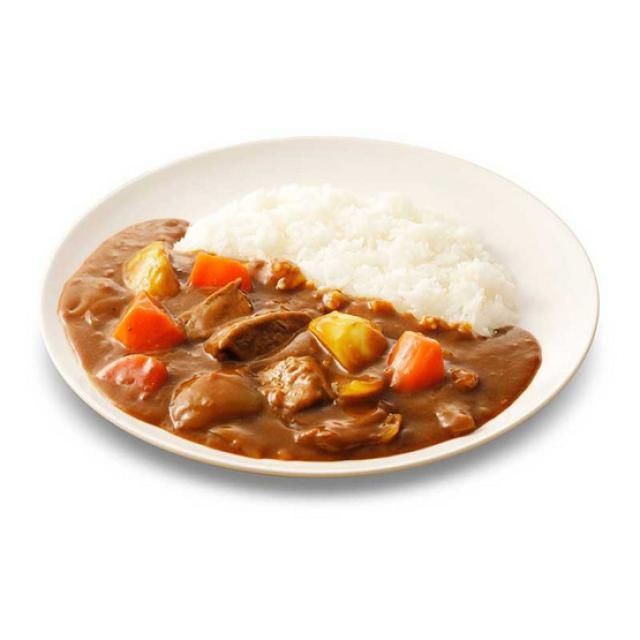Carbohydrate: (182, 176, 530, 345)
Curry: (37, 131, 608, 491)
Protein: (185, 279, 328, 413)
Taokua: (174, 242, 272, 289)
Vegetable: (308, 293, 447, 395), (103, 239, 174, 406)
